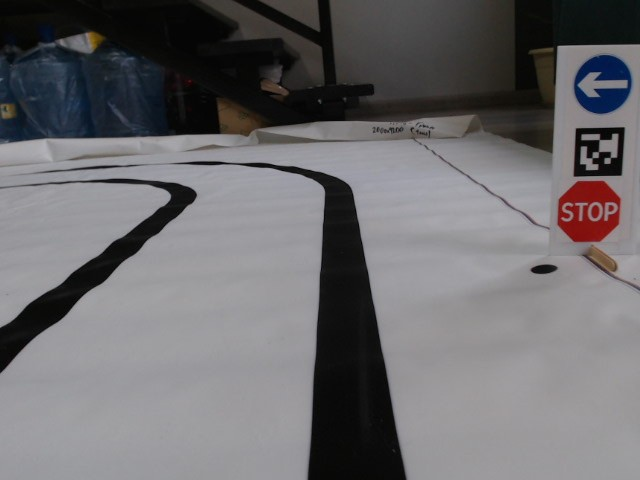Stop: (555, 179, 622, 245)
